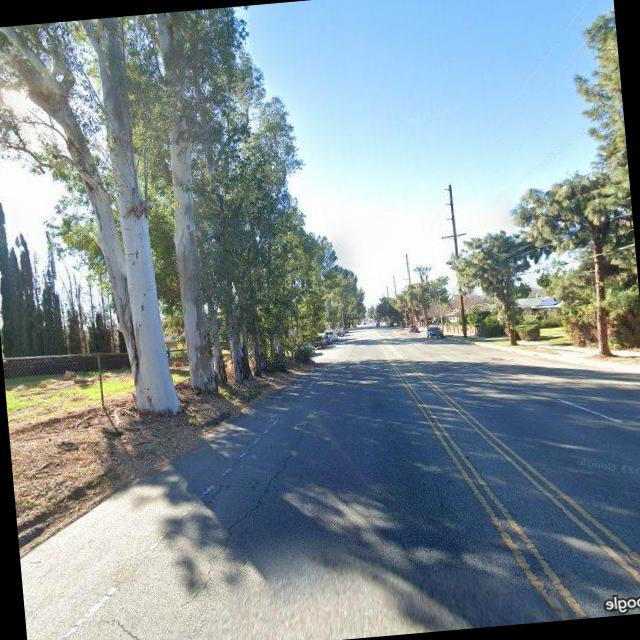pothole: (160, 380, 356, 610)
